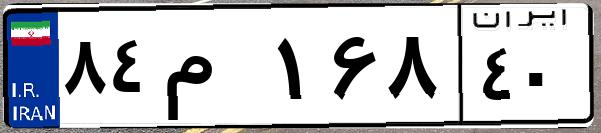0: (525, 38, 570, 115)
1: (270, 28, 330, 110)
4: (475, 38, 525, 113), (110, 28, 158, 98)
6: (330, 28, 385, 110)
8: (385, 28, 445, 110), (57, 26, 110, 100)
م: (158, 20, 270, 120)
